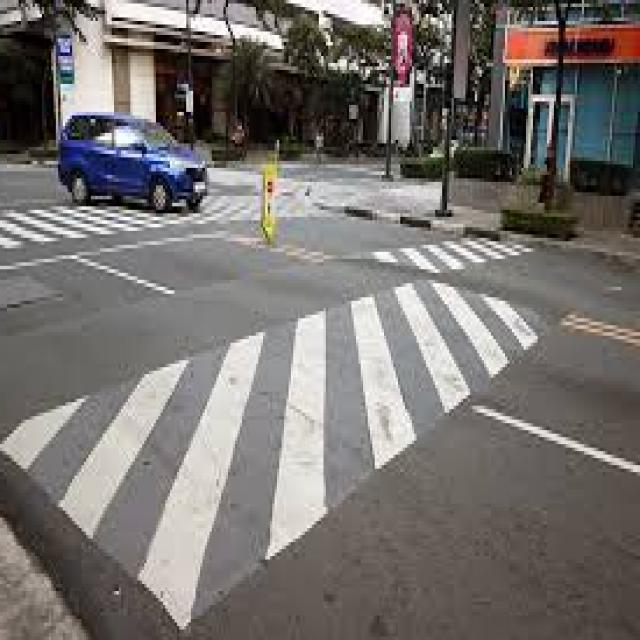speedbreaker: (9, 239, 556, 572)
